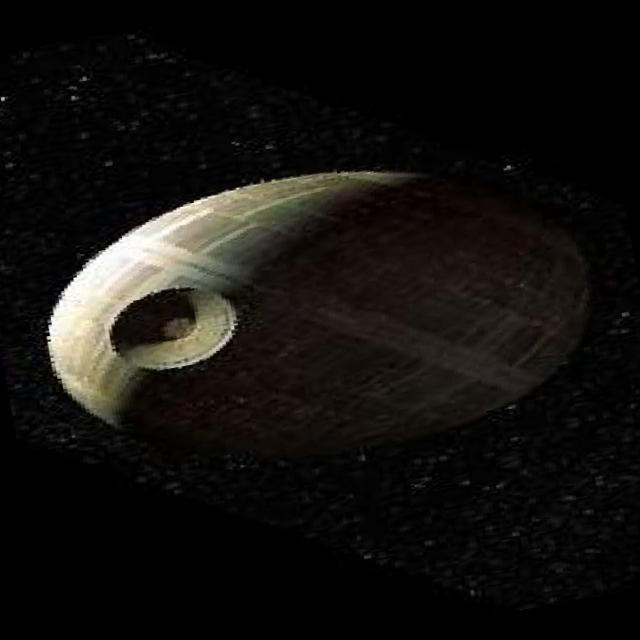Death Star: (18, 122, 620, 505)
